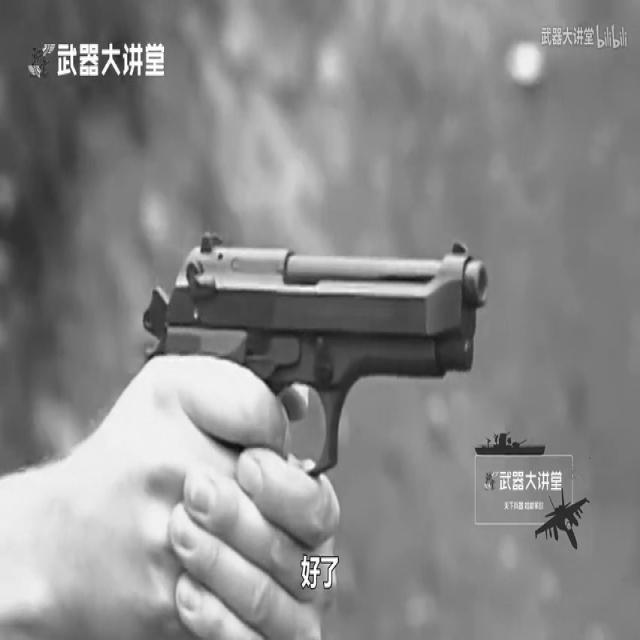Hand-Gun: (144, 82, 488, 640)
